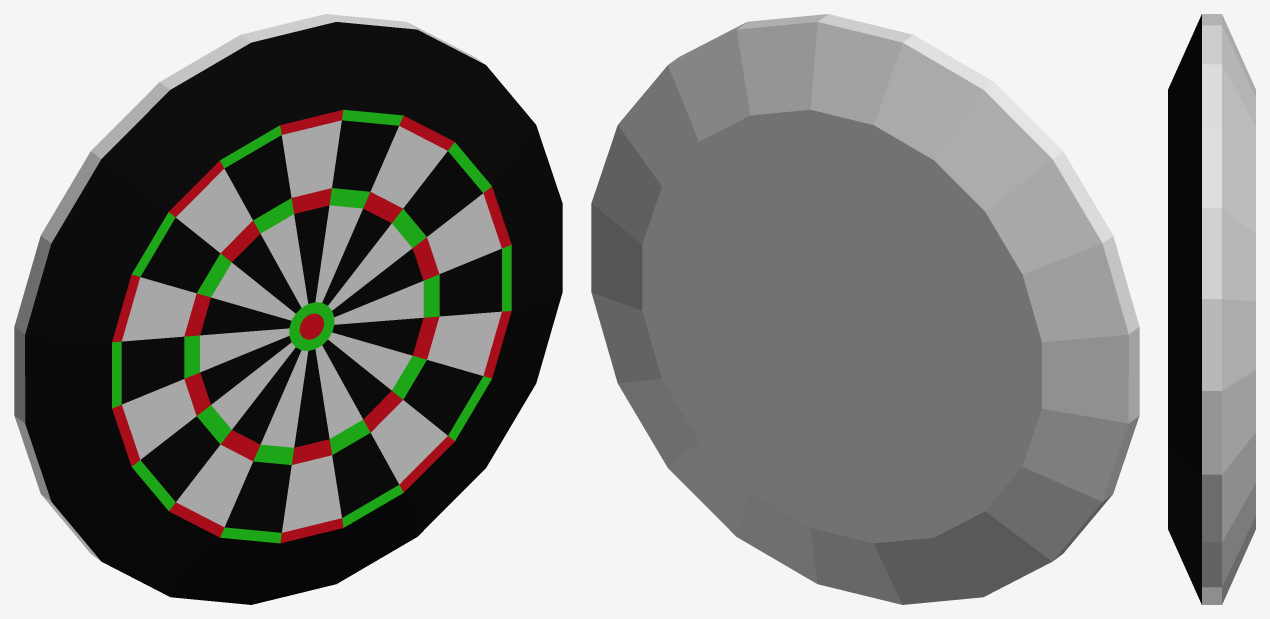
File: DartBoard_Low_Poly.glb
3 renders of one model, left to right at view 1: azimuth 30°, elevation 25°; view 2: azimuth 150°, elevation 25°; view 3: azimuth 270°, elevation 25°, orthographic. The views are drawn at different scales.
Parts seen in each view (by area): view 1: Cylinder; view 2: Cylinder; view 3: Cylinder.
Boxes of the visible parts, x1=… form: Cylinder: x1=14, y1=14, x2=562, y2=604; Cylinder: x1=591, y1=14, x2=1139, y2=604; Cylinder: x1=1168, y1=14, x2=1255, y2=604.
Bounding box in the file's own units: 2.66 × 2.66 × 0.4.
